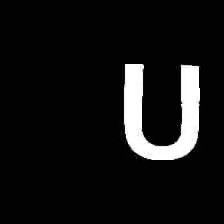LTR_U: (113, 54, 208, 166)
